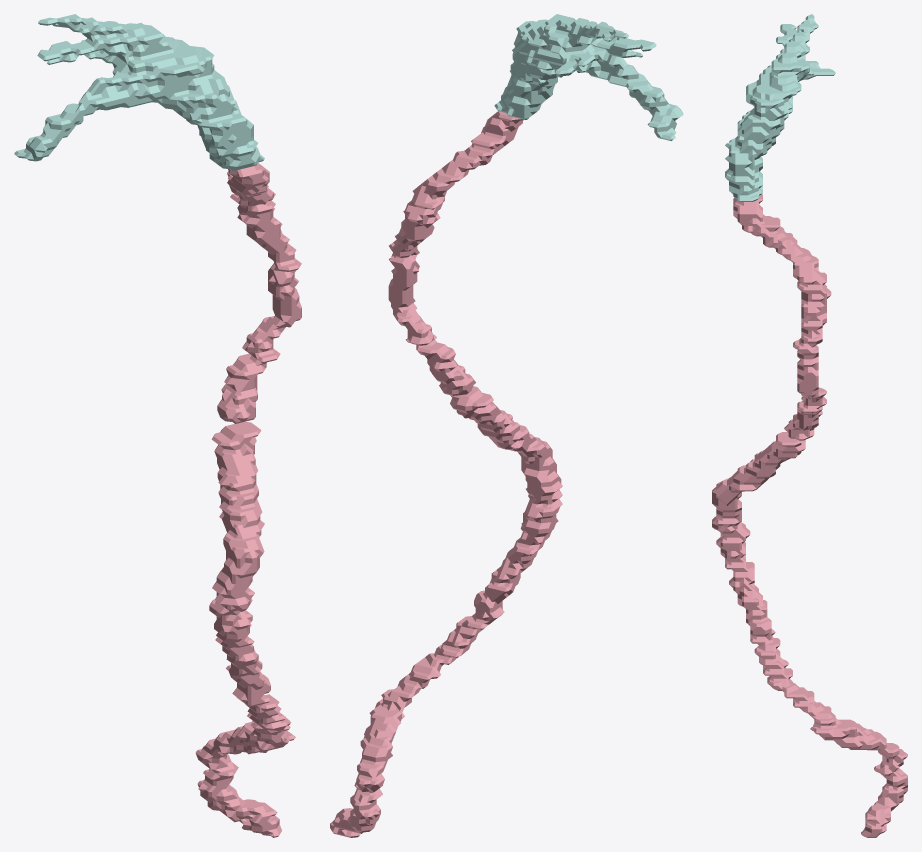
File: urinary-ct-ureter.glb
3 renders of one model, left to right at view 1: azimuth 30°, elevation 25°; view 2: azimuth 150°, elevation 25°; view 3: azimuth 270°, elevation 25°, orthographic. The views are drawn at different scales.
Parts seen in each view (by area): view 1: ureter, renal_pelvis; view 2: ureter, renal_pelvis; view 3: ureter, renal_pelvis.
Part boxes in pixels (x1,y1,x2,y2): ureter: (195,163,301,837); renal_pelvis: (14,14,264,170); ureter: (330,111,562,837); renal_pelvis: (494,14,683,140); ureter: (712,194,907,837); renal_pelvis: (725,14,835,201).
Bounding box in the file's own units: 68 × 186 × 46.
